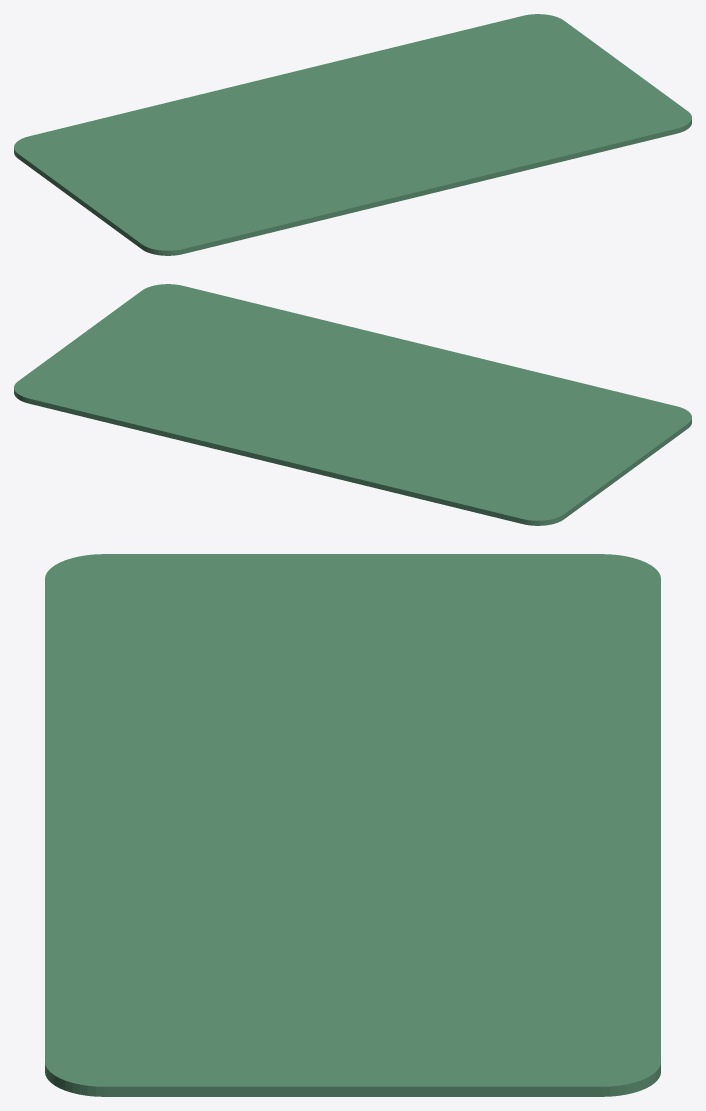
Rendered from main_pcb.glb.
3 views of the same model, one above another, from view 1: azimuth 30°, elevation 25°; view 2: azimuth 150°, elevation 25°; view 3: azimuth 270°, elevation 25° (orthographic). The views are drawn at different scales.
Parts seen in each view (by area): view 1: main_pcb; view 2: main_pcb; view 3: main_pcb.
Part boxes in pixels (x1,y1,x2,y2): main_pcb: (14, 14, 691, 255); main_pcb: (14, 284, 691, 525); main_pcb: (45, 554, 660, 1096).
Bounding box in the file's own units: 0.18 × 0.0016 × 0.088.
